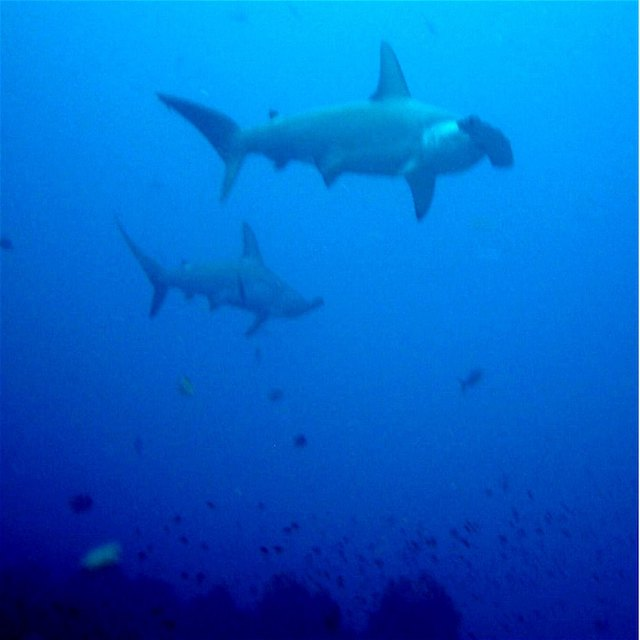hammerhead: (392, 88, 555, 194), (225, 250, 325, 338)
